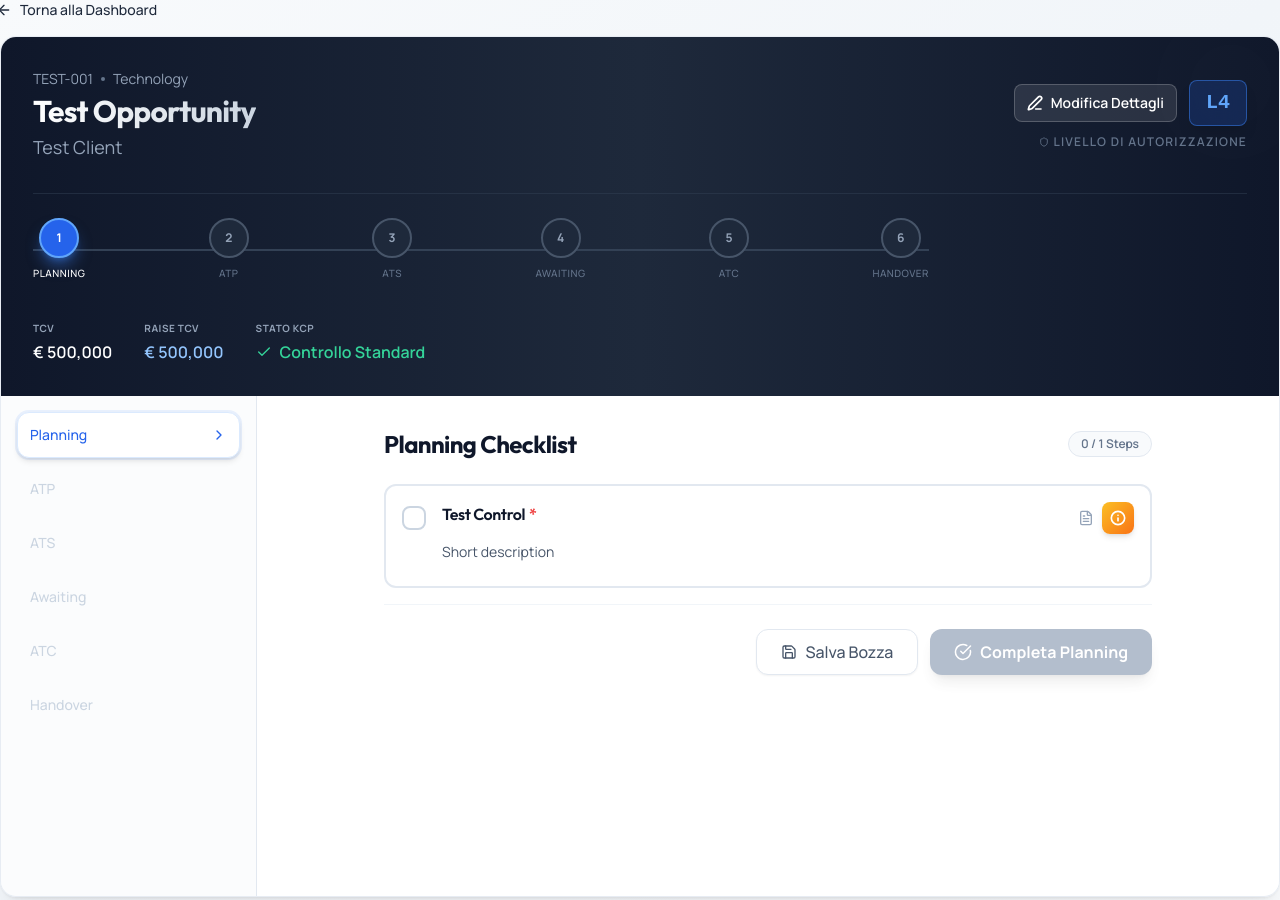
it: OpportunityWorkflow › Info Popups › should close detail modal when close button clicked
Click the button titled "Visualizza dettagli".
click(1118, 518)  # box [1102,502,1134,534]
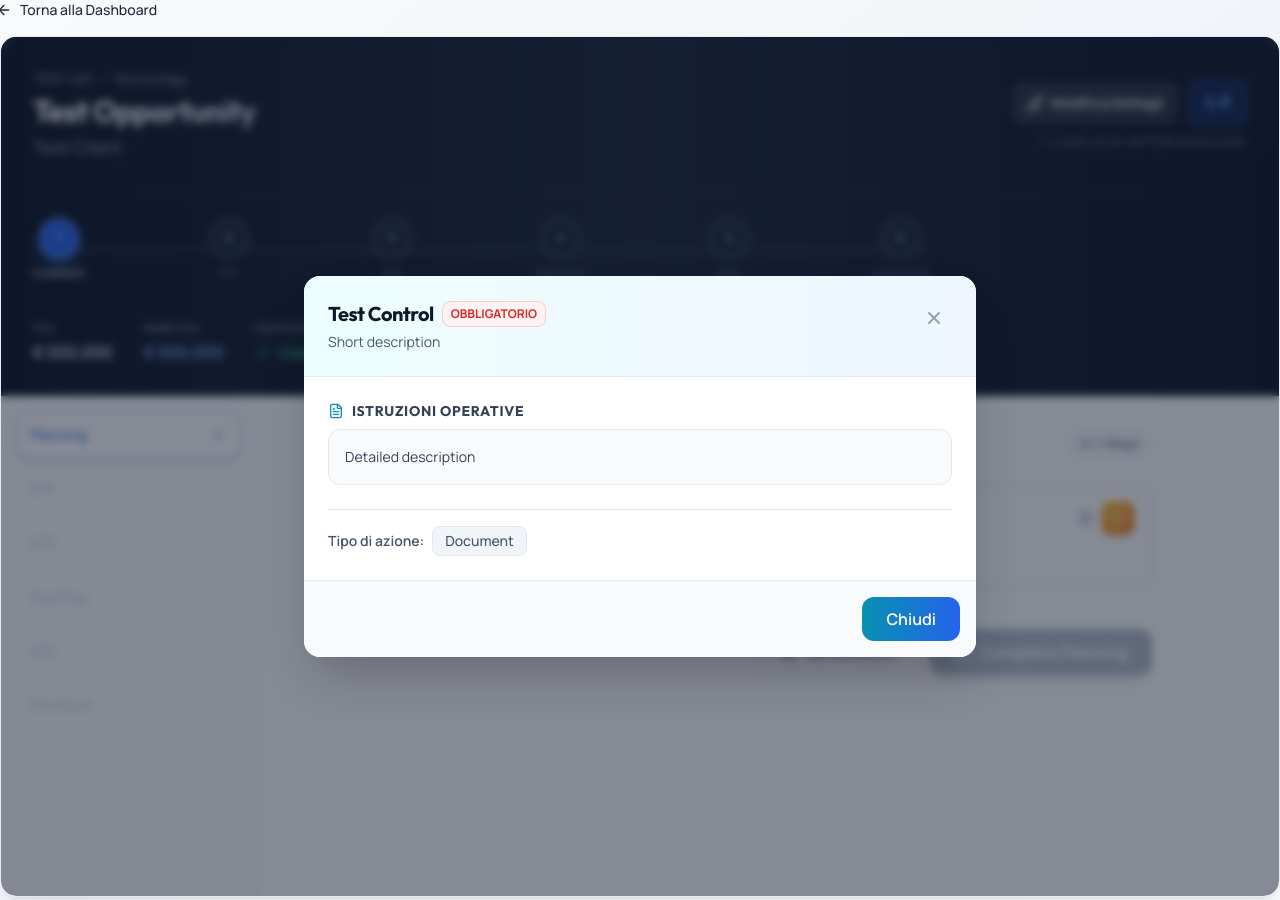
Click the button "Chiudi".
click(911, 619)  # box [862,597,960,641]
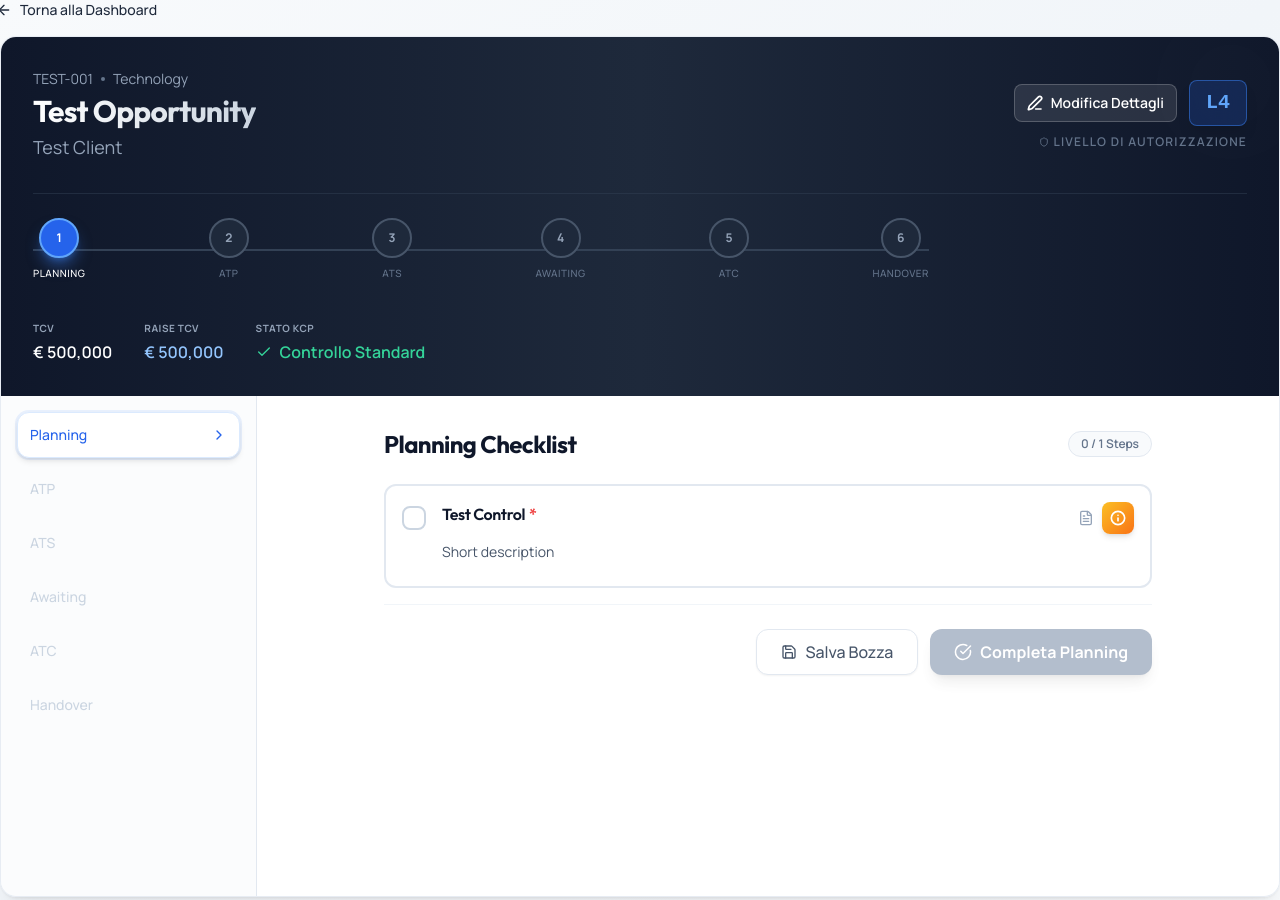
Result: the text "Detailed description" is gone
